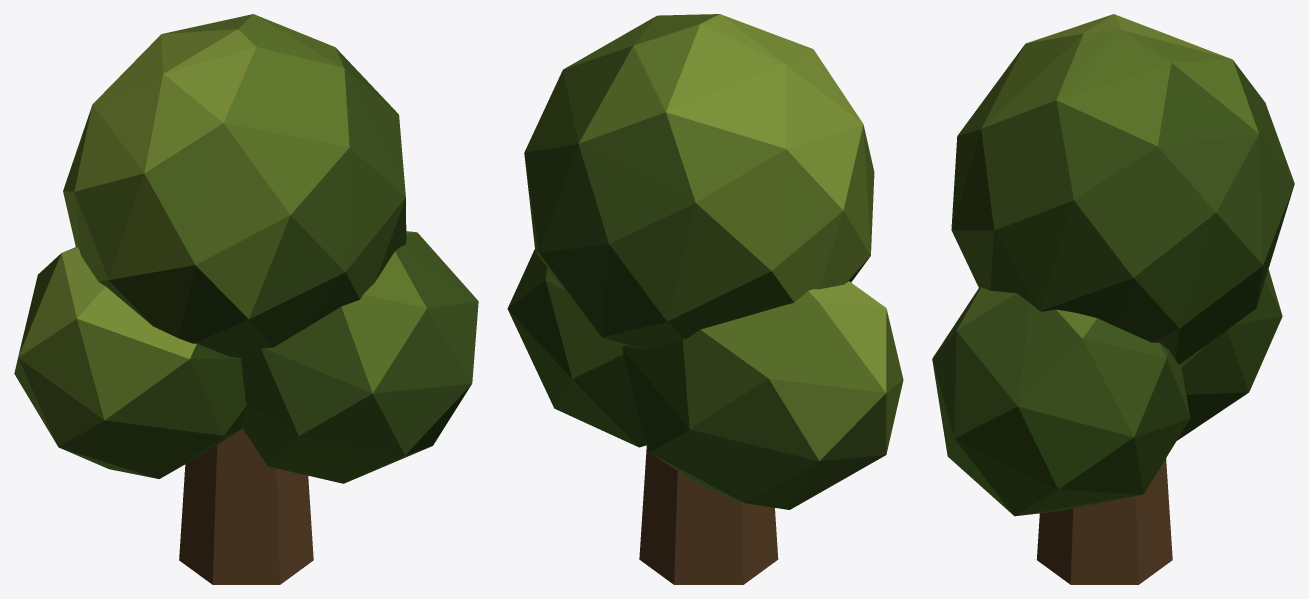
Rendered from tree_round.glb.
3 views of the same model, side by side, from view 1: azimuth 30°, elevation 25°; view 2: azimuth 150°, elevation 25°; view 3: azimuth 270°, elevation 25° (orthographic). The views are drawn at different scales.
Visible parts, largest first — view 1: tree_round; view 2: tree_round; view 3: tree_round.
Part boxes in pixels (x1,y1,x2,y2): tree_round: (14,14,478,584); tree_round: (507,14,903,584); tree_round: (932,14,1294,584).
Bounding box in the file's own units: 0.8233 × 1.05 × 0.6509.
